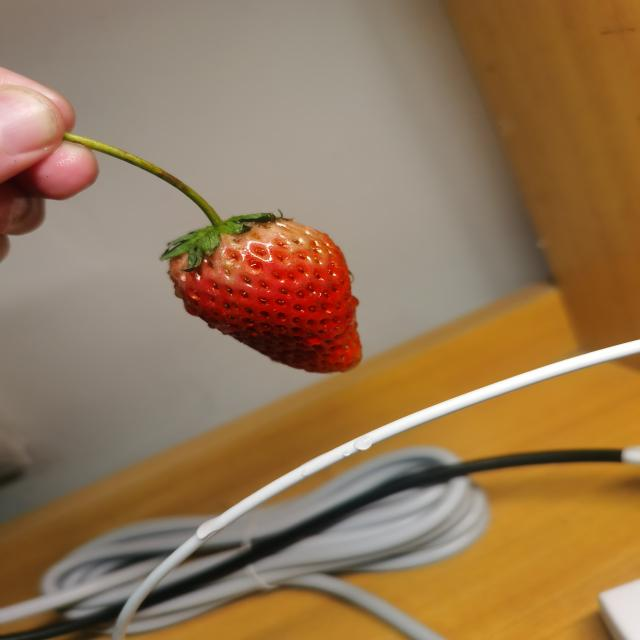stem: (133, 158, 226, 229)
strawberry: (168, 214, 362, 373)
